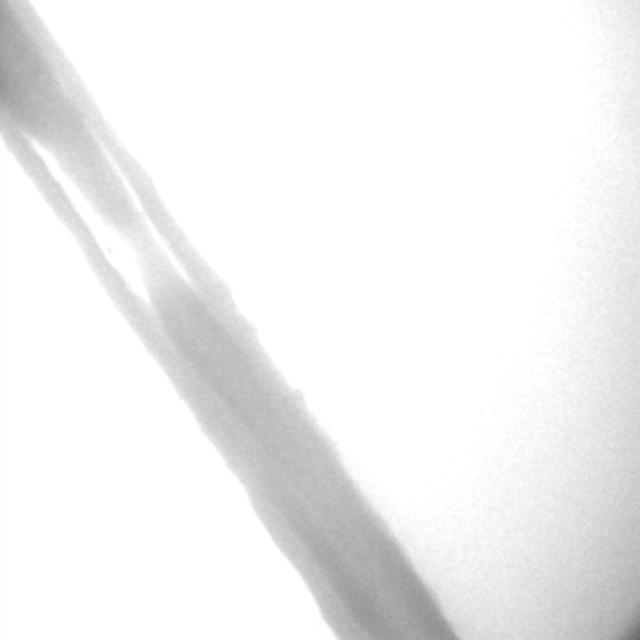unfused: (25, 133, 197, 314)
